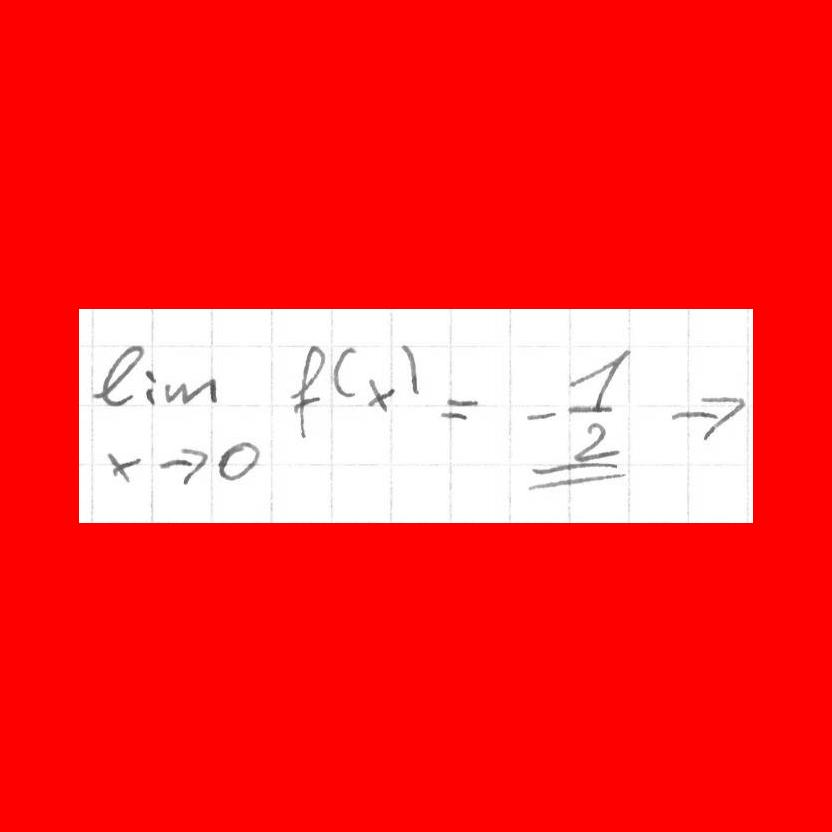Char: (288, 342, 327, 443), (568, 351, 629, 409), (682, 392, 748, 444), (96, 345, 141, 405), (158, 446, 209, 486), (215, 439, 261, 483), (166, 374, 220, 409), (571, 420, 618, 460), (535, 461, 624, 482), (332, 344, 358, 400), (104, 447, 140, 486), (440, 393, 478, 425), (398, 342, 419, 398), (366, 375, 393, 412), (521, 404, 558, 423), (143, 368, 160, 405)
